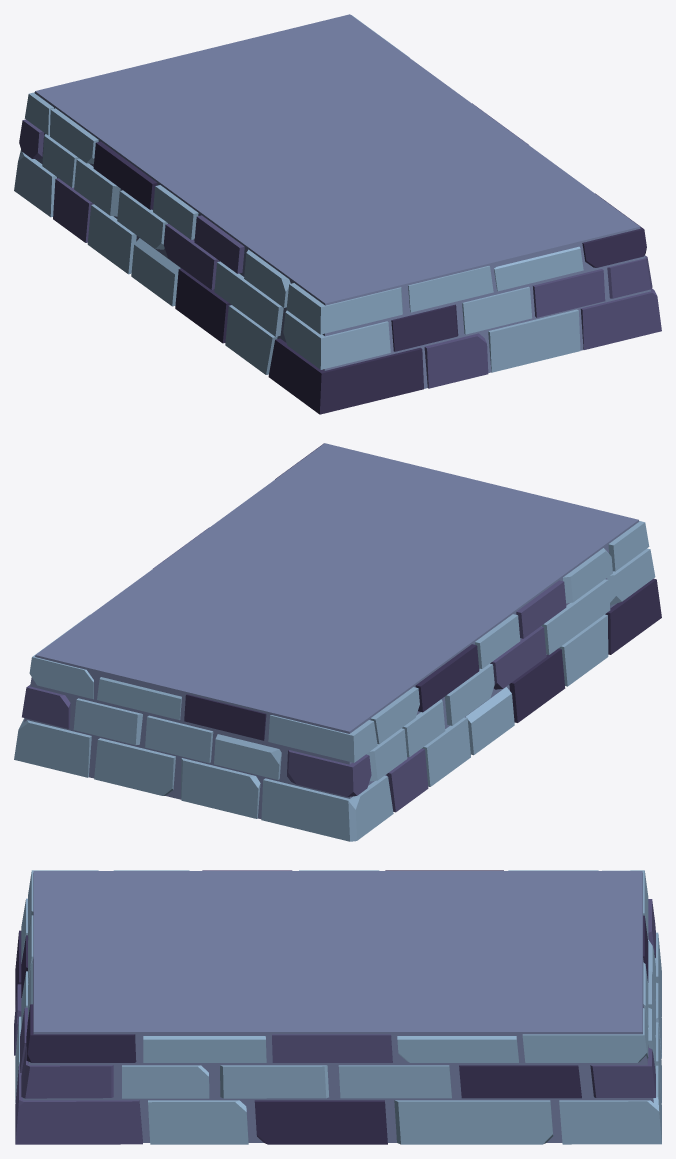
The model's file is BuildingPlatform_01.fbx.
The picture shows the model from 3 angles, top to bottom: view 1: azimuth 30°, elevation 25°; view 2: azimuth 150°, elevation 25°; view 3: azimuth 270°, elevation 25°; orthographic projection. The views are drawn at different scales.
Visible parts, largest first — view 1: BuildingPlatform_01; view 2: BuildingPlatform_01; view 3: BuildingPlatform_01.
Part boxes in pixels (<box>): BuildingPlatform_01: <box>14,14,661,414</box>; BuildingPlatform_01: <box>14,443,661,841</box>; BuildingPlatform_01: <box>14,870,661,1144</box>.
Bounding box in the file's own units: 716 × 202 × 1120.
